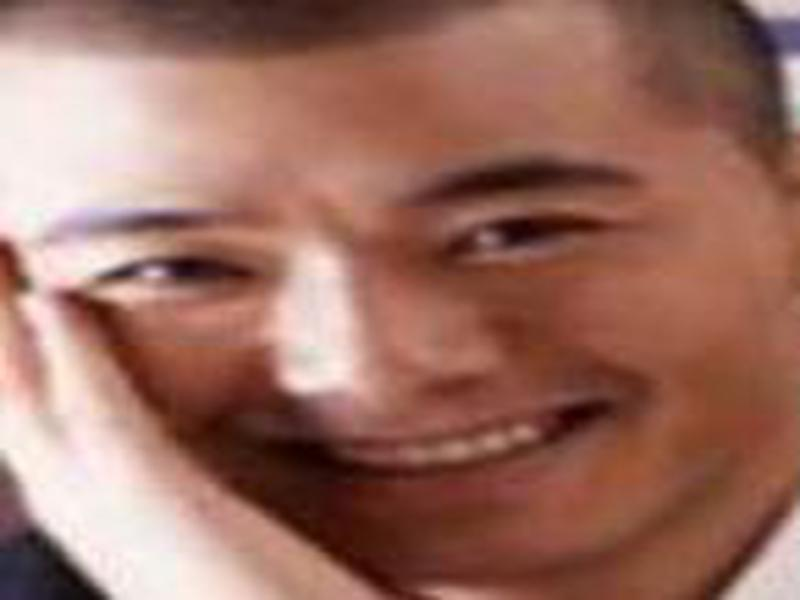without_mask: (4, 65, 757, 565)
